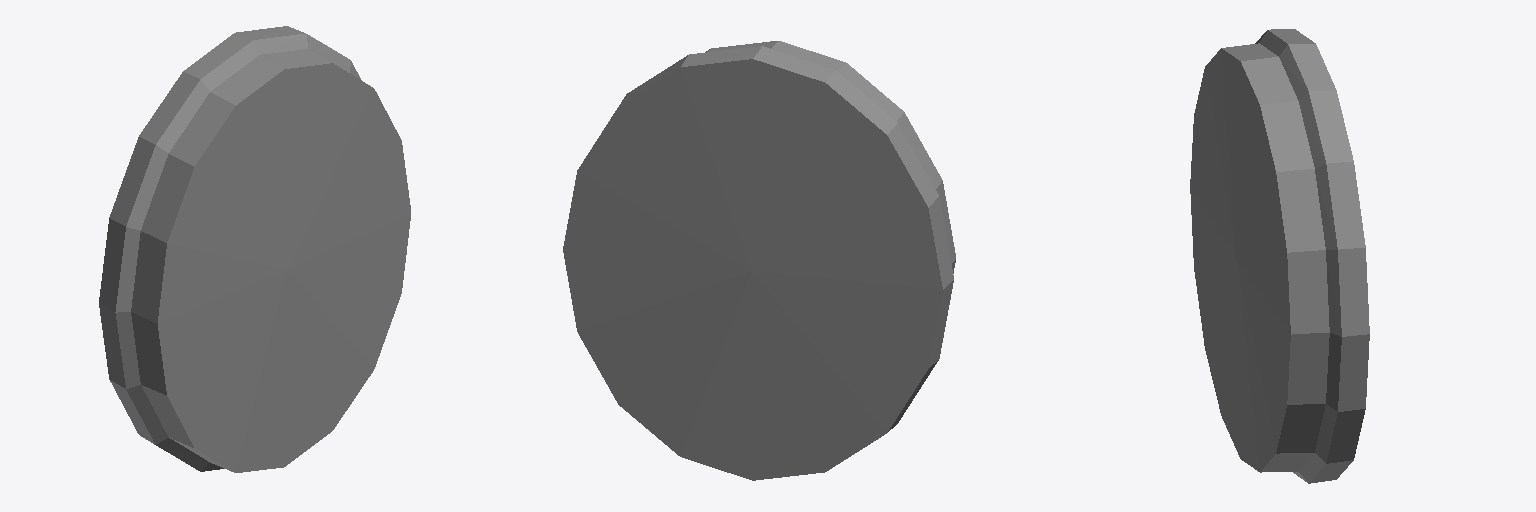
The model's file is LlantaDer6.obj.
3 renders of one model, left to right at view 1: azimuth 30°, elevation 25°; view 2: azimuth 150°, elevation 25°; view 3: azimuth 270°, elevation 25°, orthographic.
Visible parts, largest first — view 1: LantaDer6; view 2: LantaDer6; view 3: LantaDer6.
Boxes of the visible parts, x1=… form: LantaDer6: x1=99, y1=26, x2=410, y2=472; LantaDer6: x1=563, y1=41, x2=955, y2=480; LantaDer6: x1=1190, y1=29, x2=1369, y2=483.
Size of the model in its own units: 0.2181 by 0.2666 by 0.1022.